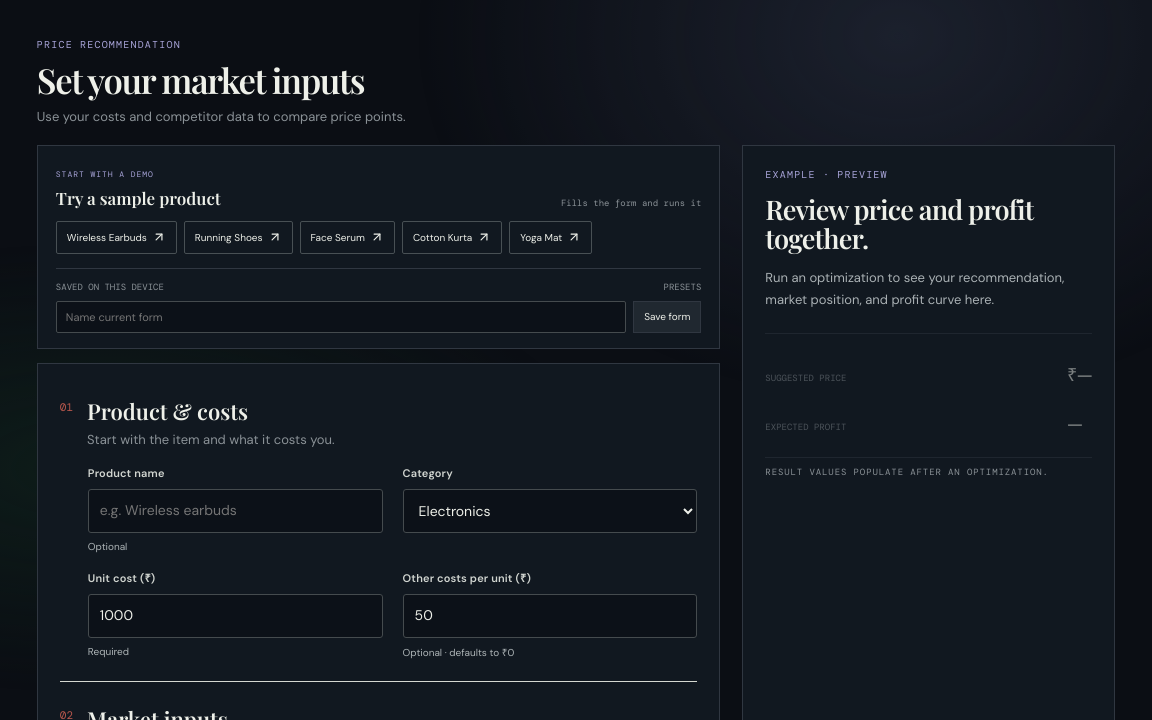
Scenario: PriceOptimizer › submits the form and renders recommendation, metrics, and condition flags
Type "Test item" into the field labelled "Product name".
click(235, 510); type("Test item")  # box [88, 488, 383, 532]
(page scrolled)
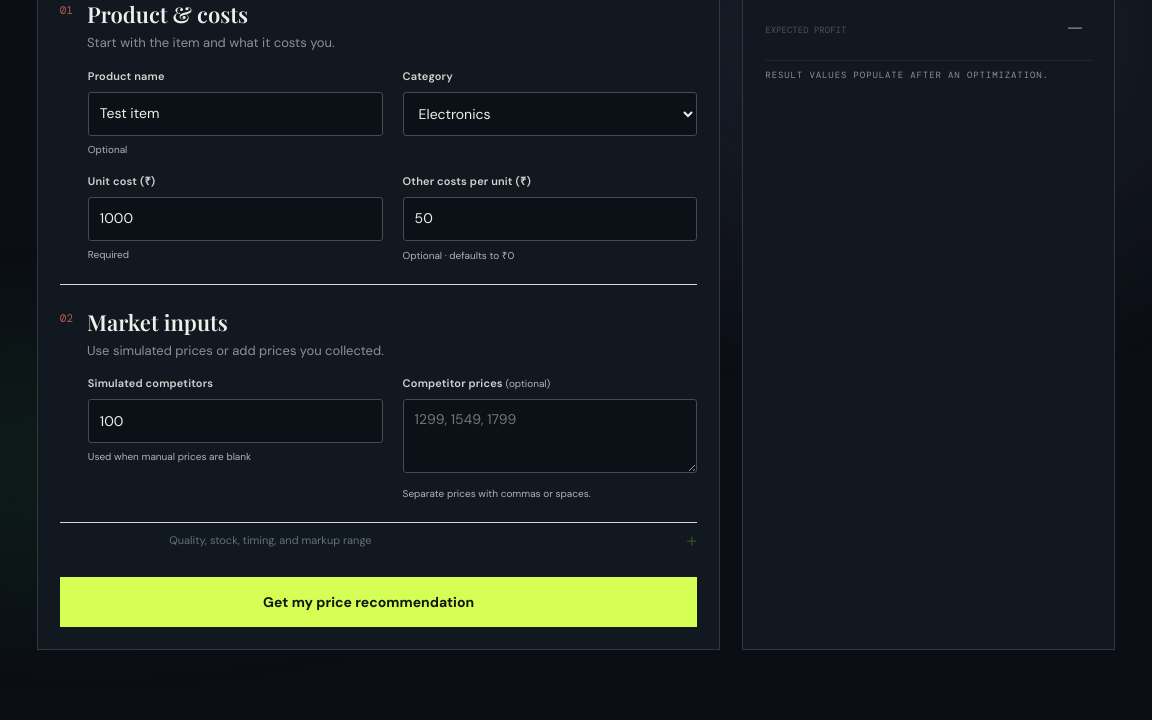
Click the button "Get my price recommendation".
click(379, 602)  # box [60, 577, 697, 627]
(page scrolled)
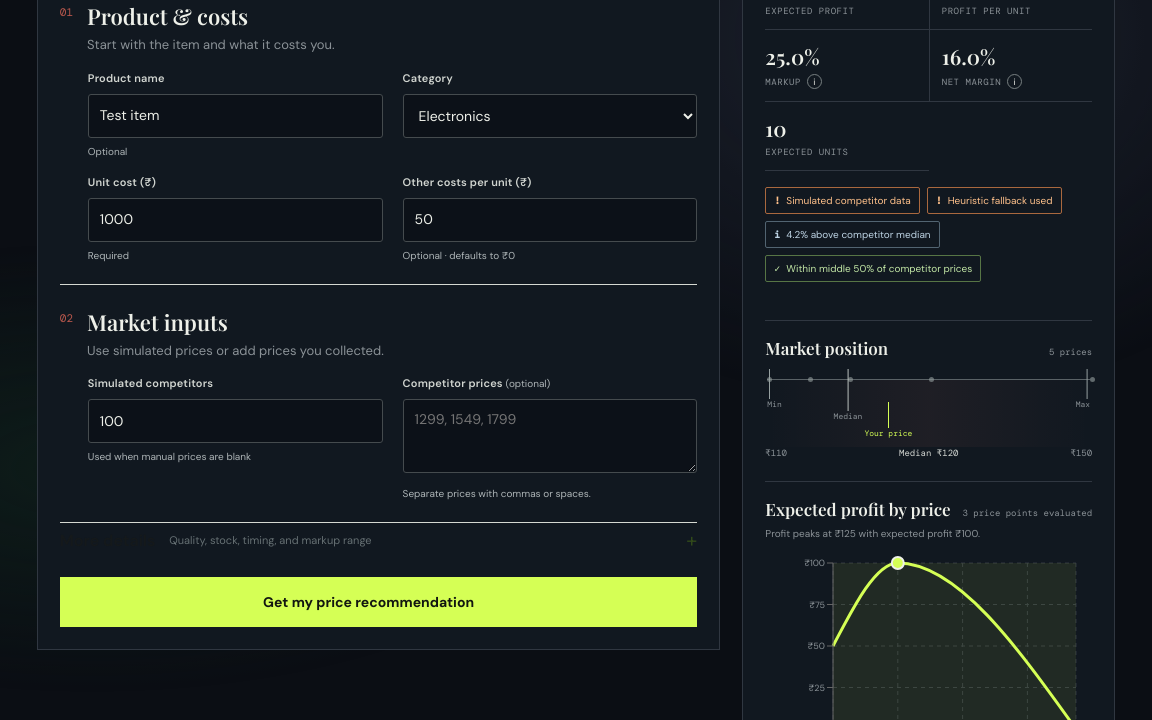
Expected: the text "Markup" is shown, [765, 76, 807, 88]
Expected: the text "Net margin" is shown, [942, 76, 1007, 88]
Expected: the list item "Simulated competitor data" is shown, [786, 194, 911, 207]
